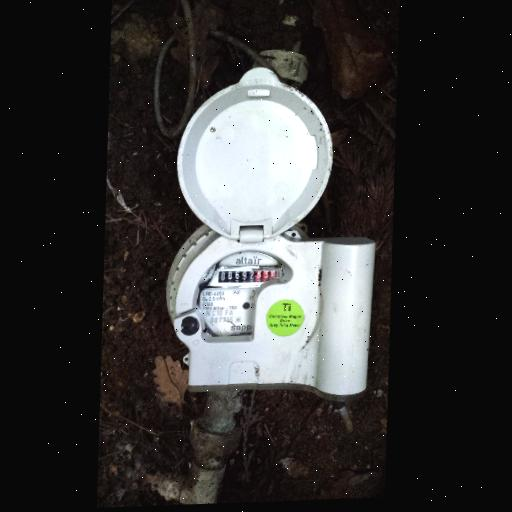0: (218, 271, 227, 284), (227, 271, 234, 283)
2: (248, 271, 255, 284)
3: (262, 270, 269, 281)
5: (269, 270, 278, 281)
6: (233, 271, 242, 283)
8: (255, 271, 262, 283)
9: (240, 271, 249, 282)
border_water_meter_number: (215, 266, 280, 287)
